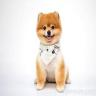dog: (34, 11, 72, 93)
